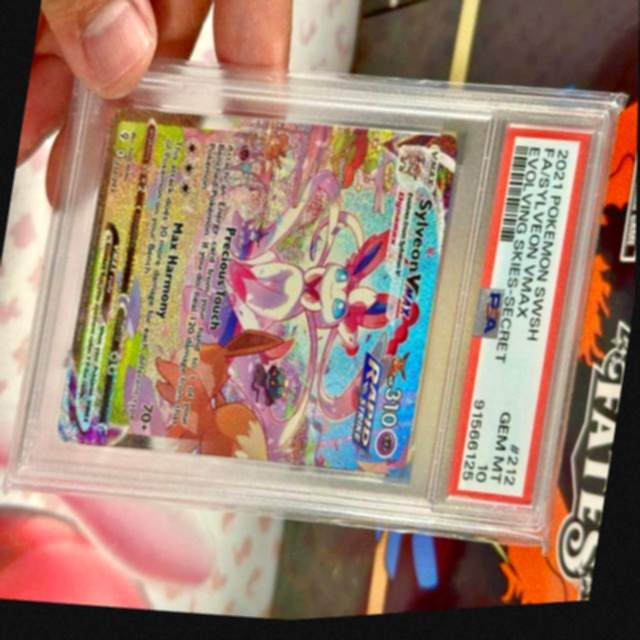card: (58, 108, 459, 481)
